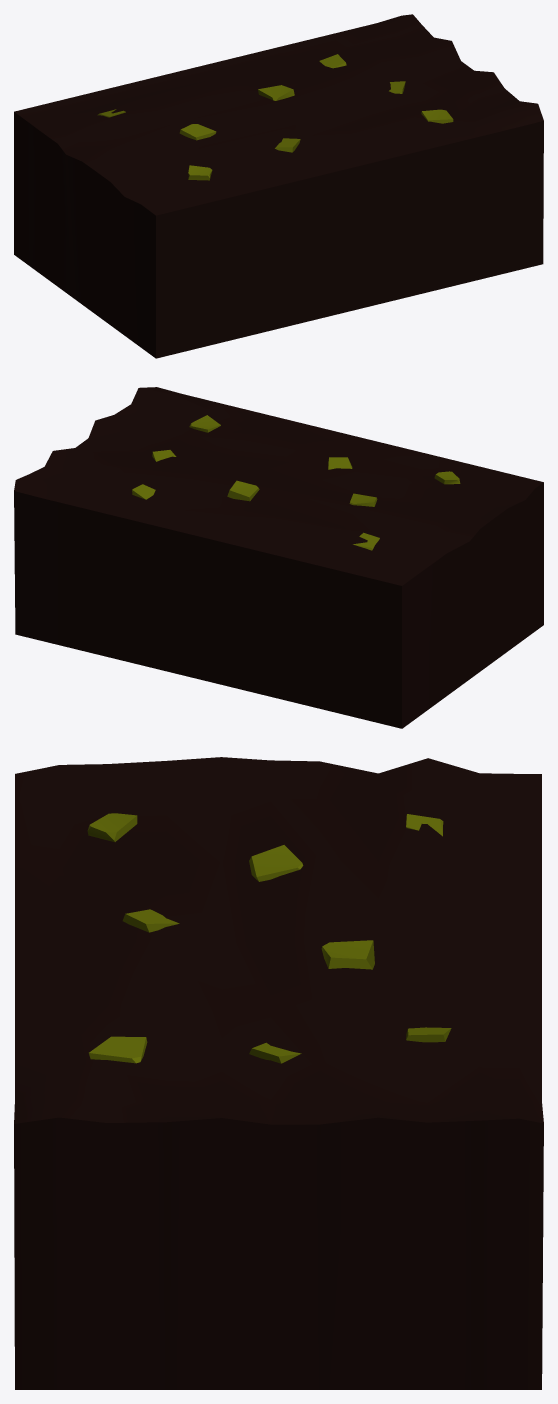
Rendered from Sol_2.fbx.
3 views of the same model, one above another, from view 1: azimuth 30°, elevation 25°; view 2: azimuth 150°, elevation 25°; view 3: azimuth 270°, elevation 25° (orthographic). The views are drawn at different scales.
Parts seen in each view (by area): view 1: sol2; view 2: sol2; view 3: sol2.
Part boxes in pixels (<box>): sol2: <box>14,14,543,358</box>; sol2: <box>14,387,543,728</box>; sol2: <box>14,757,543,1389</box>.
Bounding box in the file's own units: 441 × 161 × 272.
